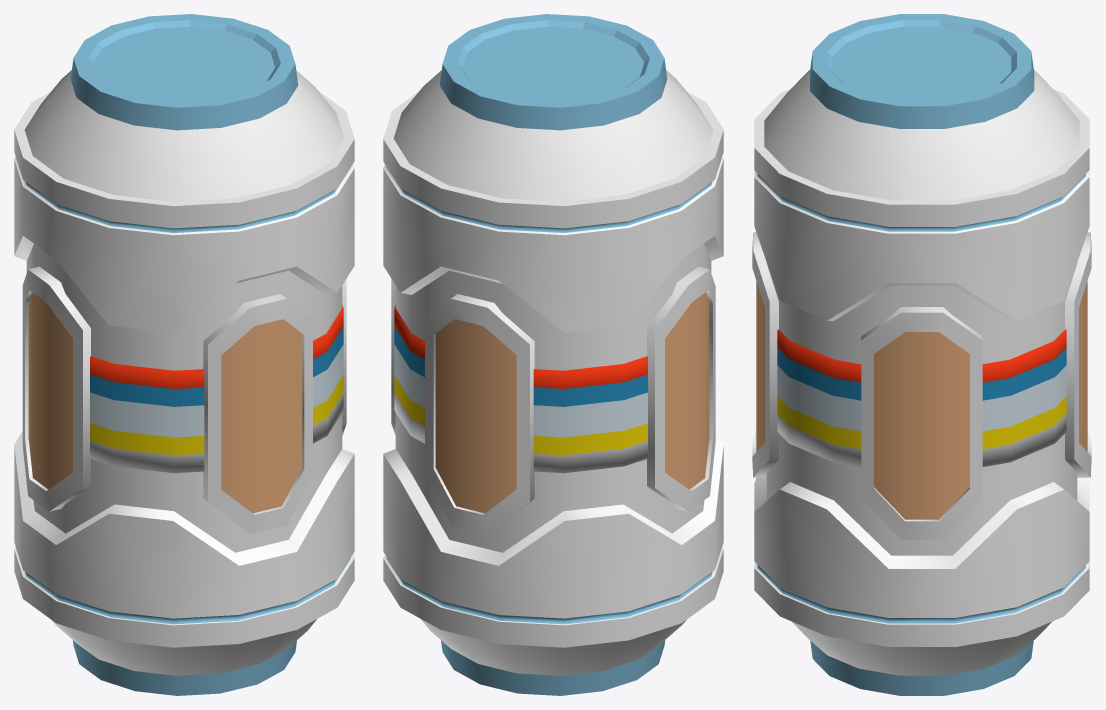
File: Props_Capsule.012.fbx
3 views of the same model, side by side, from view 1: azimuth 30°, elevation 25°; view 2: azimuth 150°, elevation 25°; view 3: azimuth 270°, elevation 25° (orthographic).
Visible parts, largest first — view 1: Props_Capsule.012; view 2: Props_Capsule.012; view 3: Props_Capsule.012.
Boxes of the visible parts, x1=… form: Props_Capsule.012: x1=14, y1=14, x2=354, y2=695; Props_Capsule.012: x1=383, y1=14, x2=723, y2=695; Props_Capsule.012: x1=752, y1=14, x2=1091, y2=695.
Size of the model in its own units: 0.8693 by 1.67 by 0.8693.
